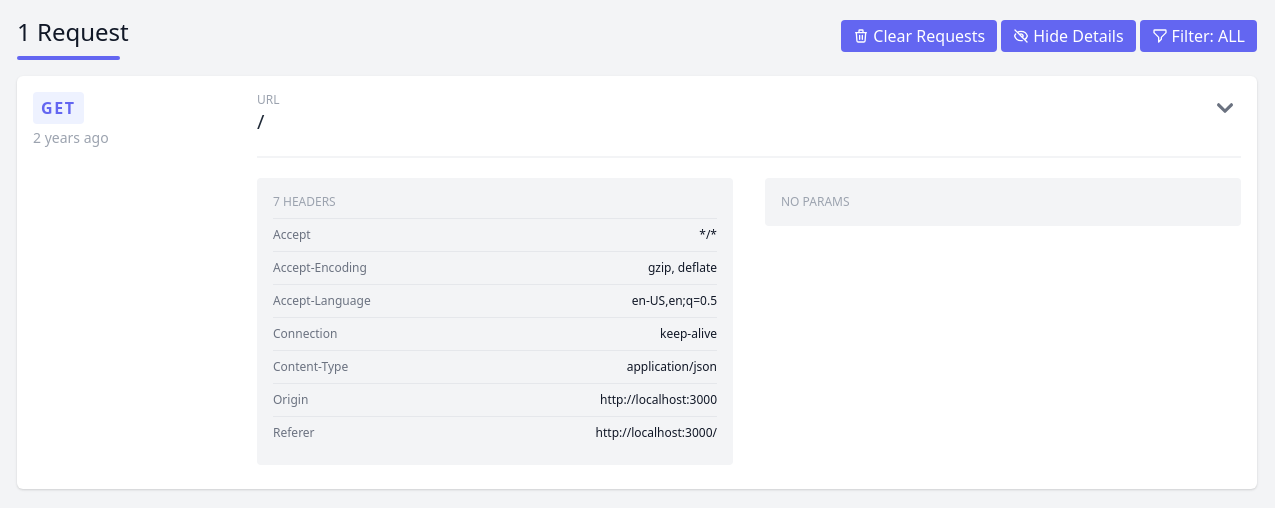
Test: Details › clicking hide details hides details
Expected: the heading "1 Request" is shown, [17,16,129,48]
Expected: the heading "7 HEADERS" is shown, [273,193,336,210]
Click the button "Hide Details" at [1068, 36], box [1001,20,1136,52]
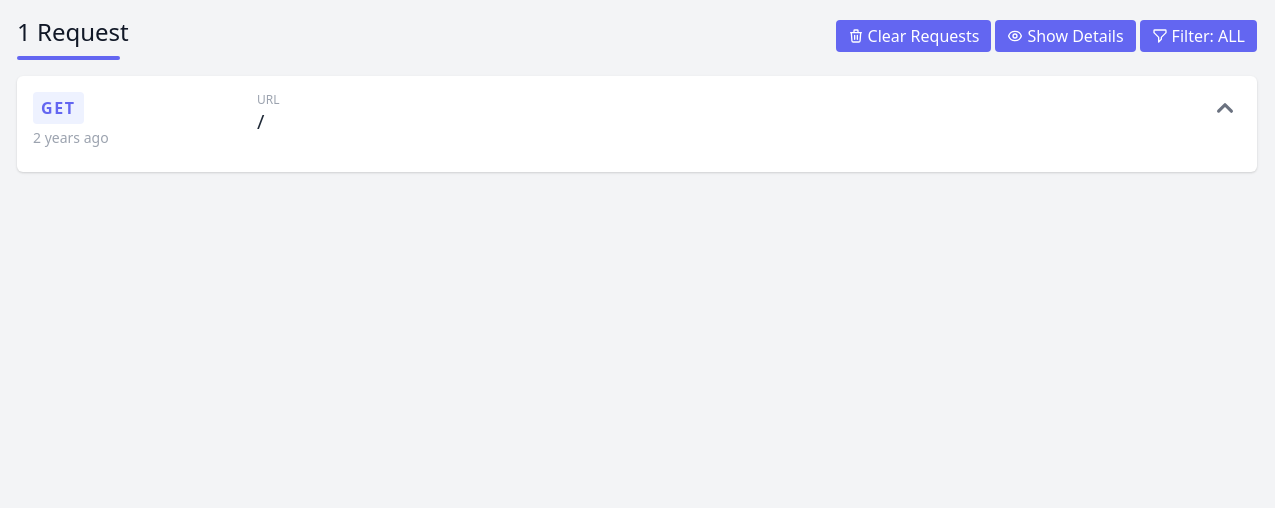
Result: the heading "7 HEADERS" is gone
Result: the heading "NO PARAMS" is gone
